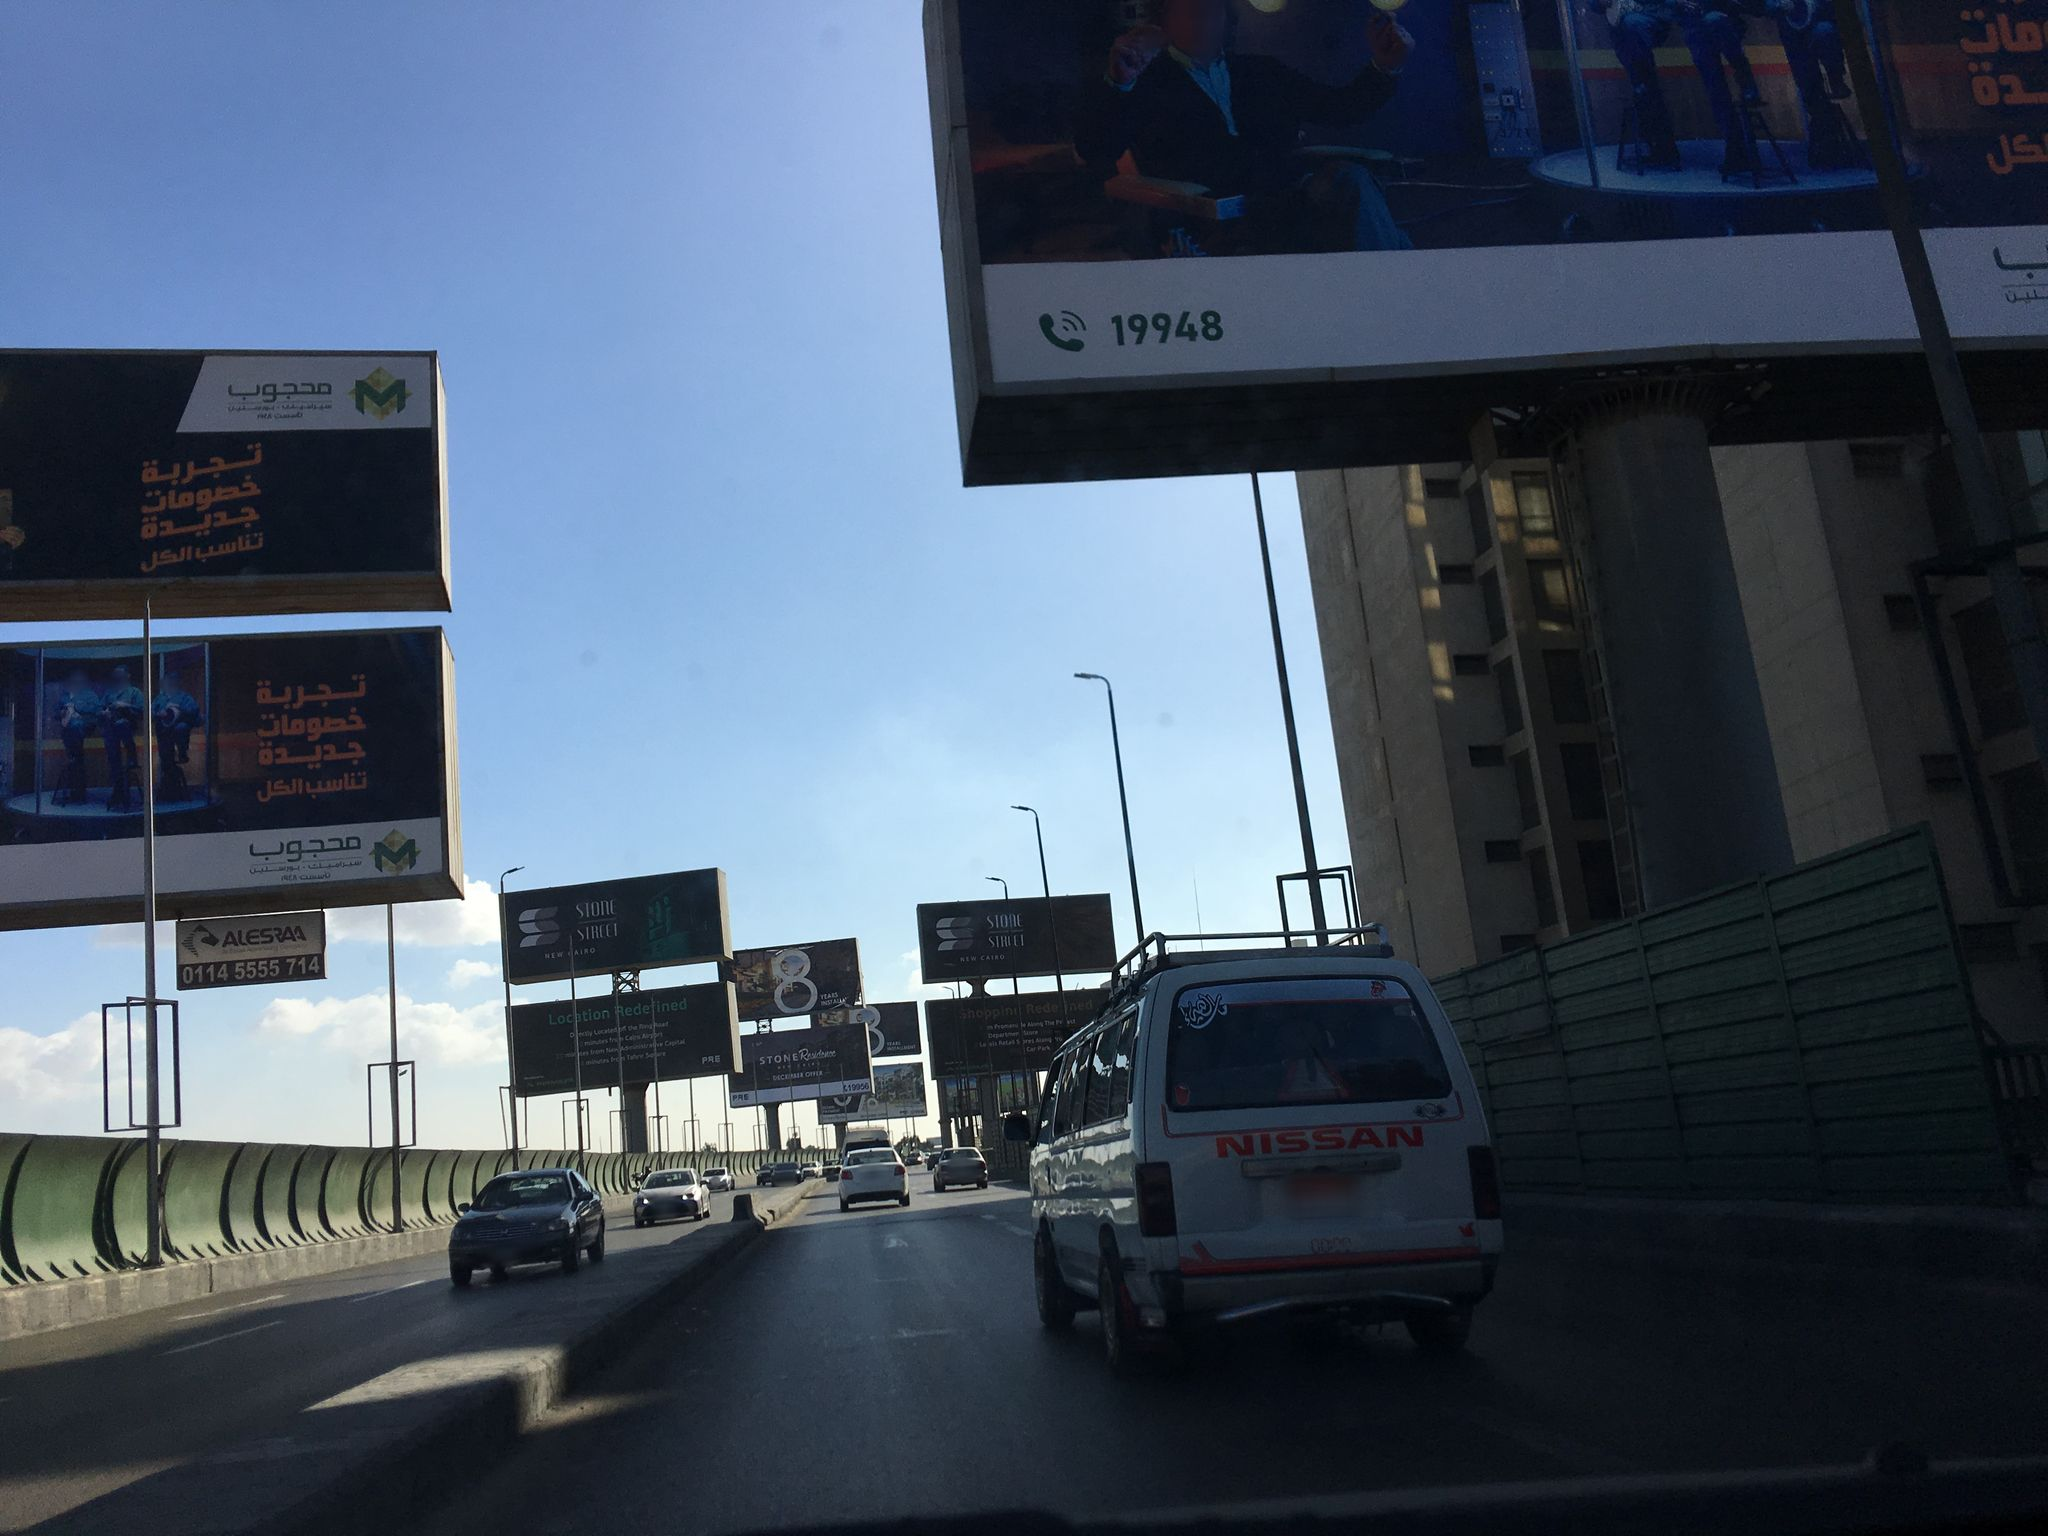car: (1006, 920, 1508, 1381), (443, 1167, 605, 1284), (627, 1167, 711, 1226), (837, 1146, 910, 1212), (930, 1146, 987, 1191), (840, 1126, 892, 1162), (698, 1167, 732, 1191), (769, 1162, 801, 1184), (755, 1162, 774, 1184), (821, 1158, 842, 1173), (800, 1162, 821, 1176)
